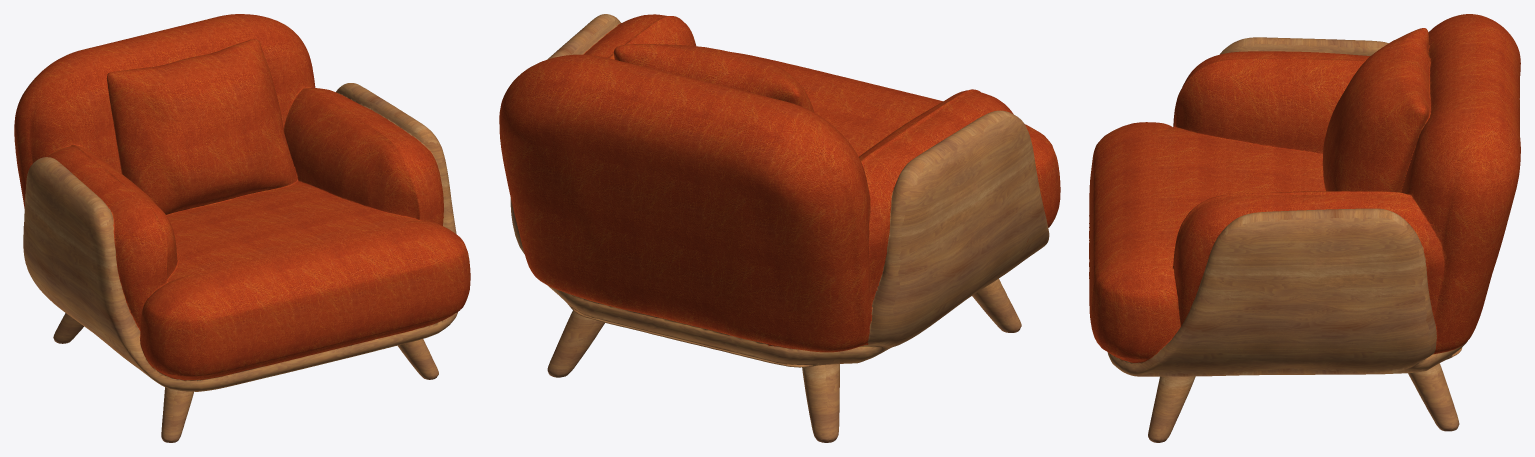
The model's file is WoodFabric1Seater.glb.
3 renders of one model, left to right at view 1: azimuth 30°, elevation 25°; view 2: azimuth 150°, elevation 25°; view 3: azimuth 270°, elevation 25°, orthographic. The views are drawn at different scales.
Parts seen in each view (by area): view 1: world; view 2: world; view 3: world.
Part boxes in pixels (left/top/right/bottom): world: left=14, top=14, right=470, bottom=442; world: left=499, top=14, right=1060, bottom=442; world: left=1089, top=14, right=1520, bottom=442.
Bounding box in the file's own units: 1 × 0.7455 × 0.9554.
Materials: 2 (2 with a texture image).
